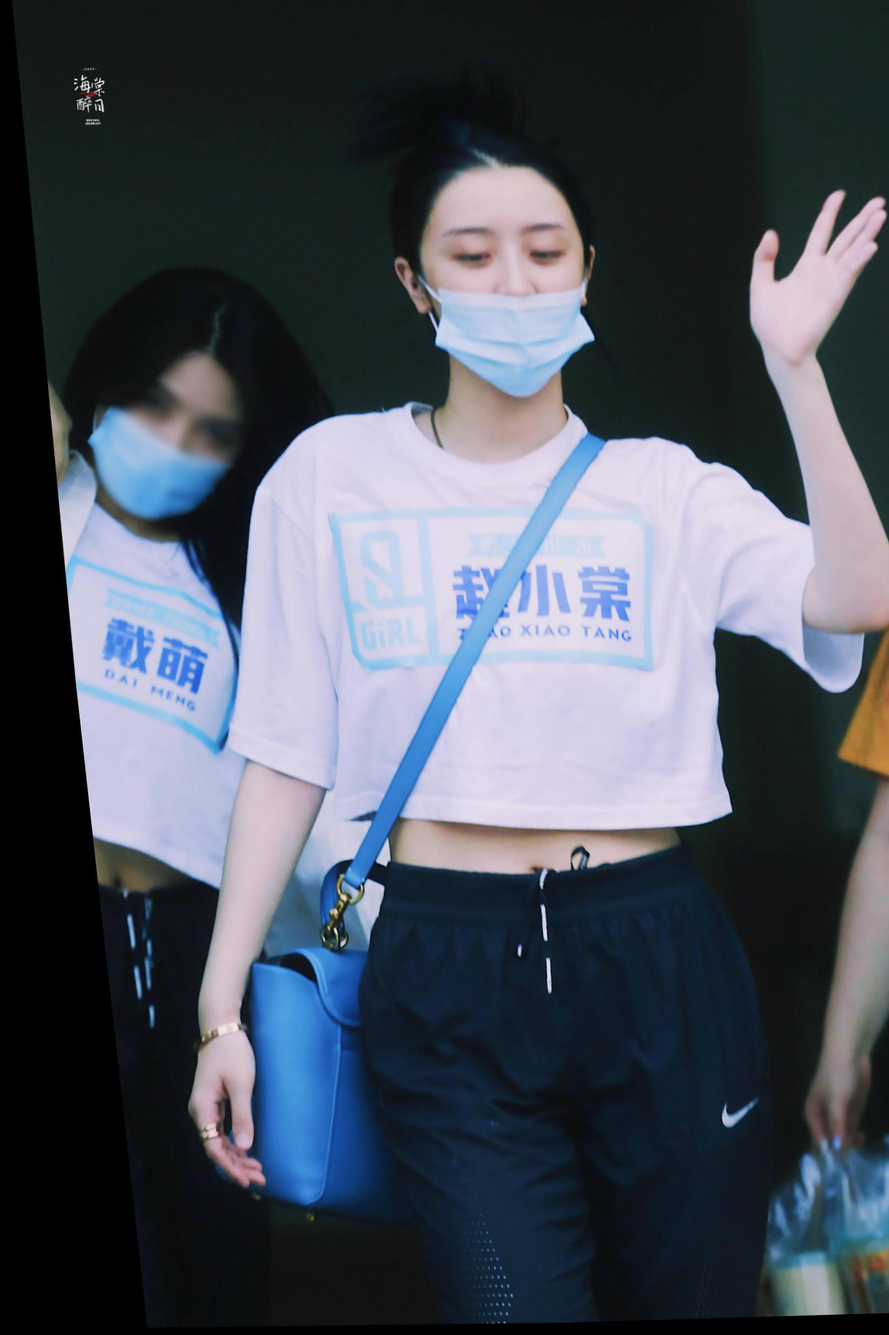OK: (70, 356, 232, 520)
WRONG: (404, 211, 586, 392)
